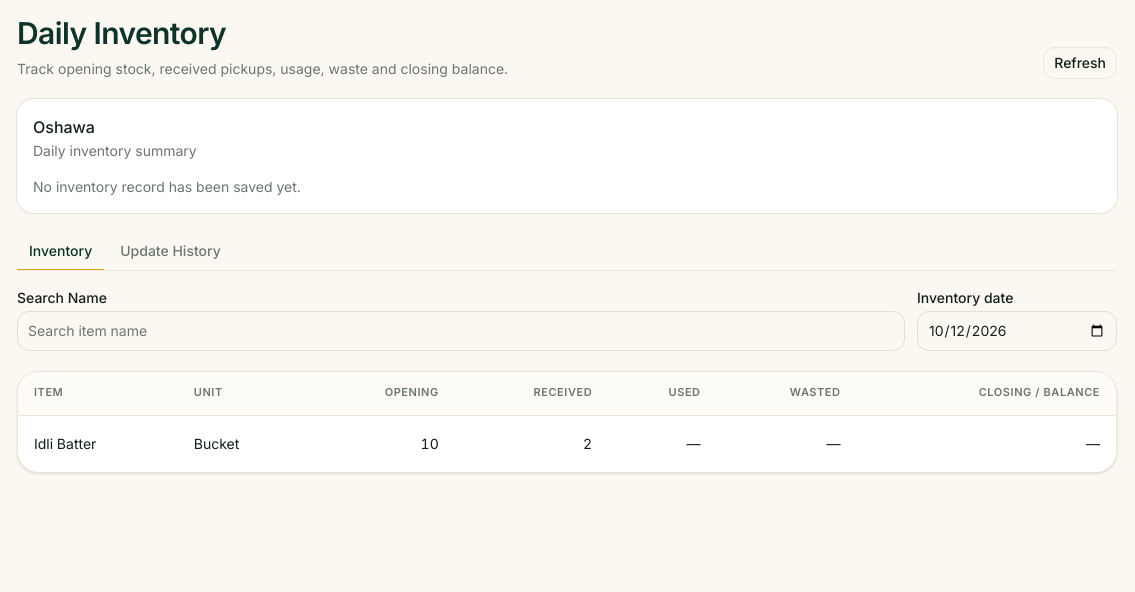
Test: inventory history is separate and entry permissions are respected
Expected: the text "Oshawa" is shown, left=33, top=116, right=95, bottom=136
Click the button "Update History" at (170, 252), box left=108, top=232, right=233, bottom=270
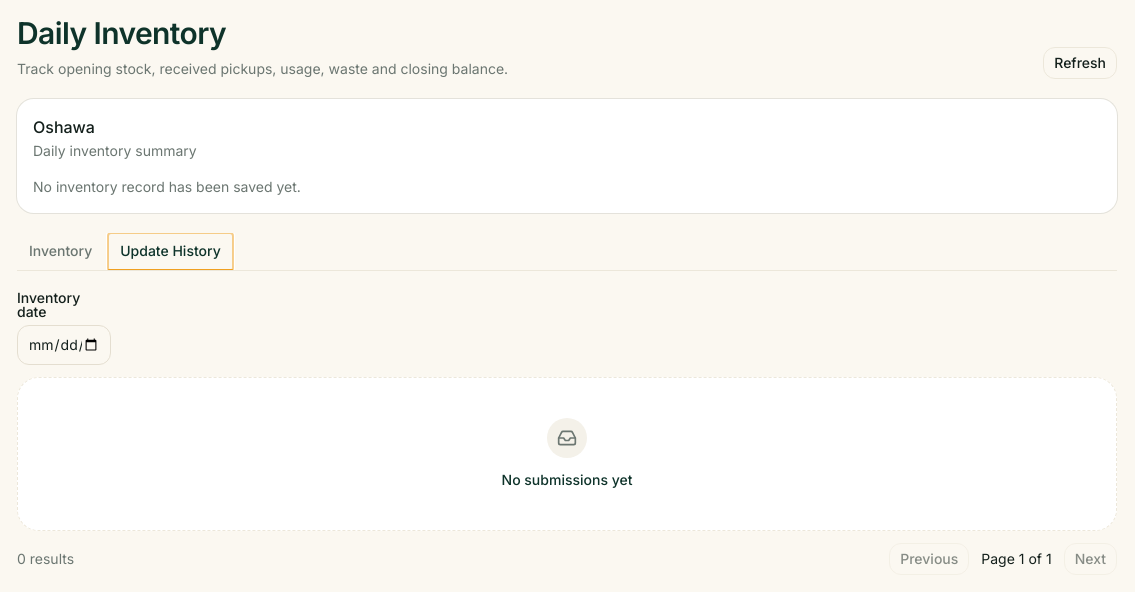
Now the text "No submissions yet" is shown, box left=502, top=470, right=632, bottom=488
